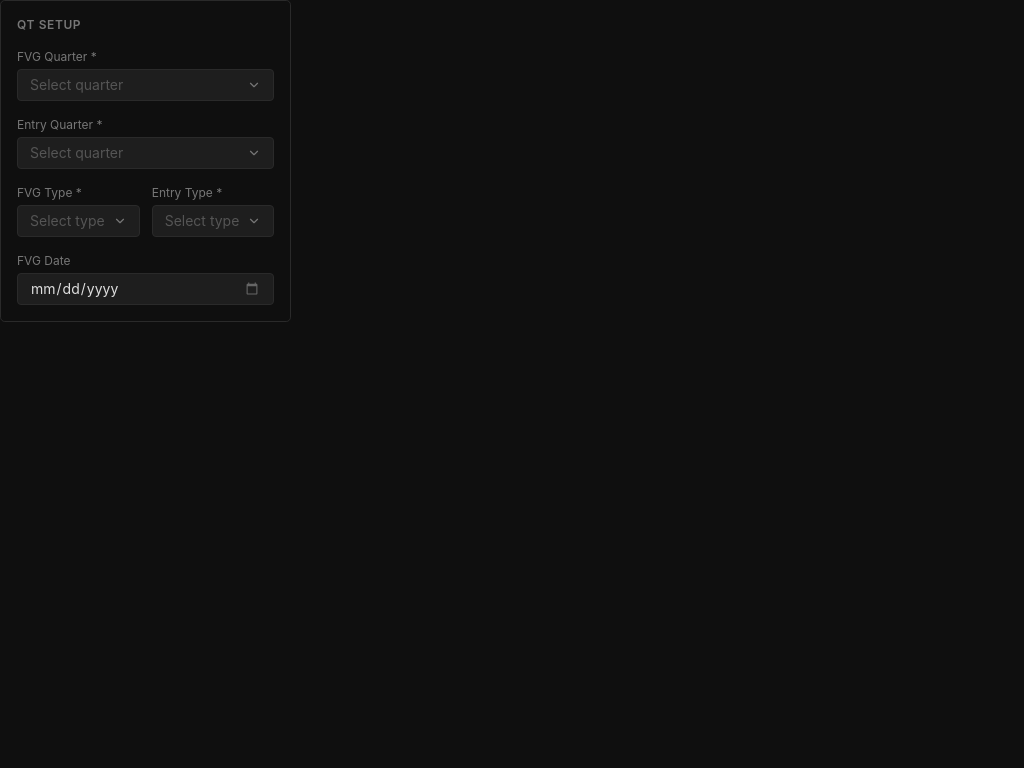
Test case: QtTradeFields — quarter options › renders Asia Q1 option in the FVG Quarter dropdown
The image size is (1024, 768).
Step 1. Click the dropdown labelled "Select quarter" below "FVG Quarter *" → (146, 85), box [17, 69, 274, 101]
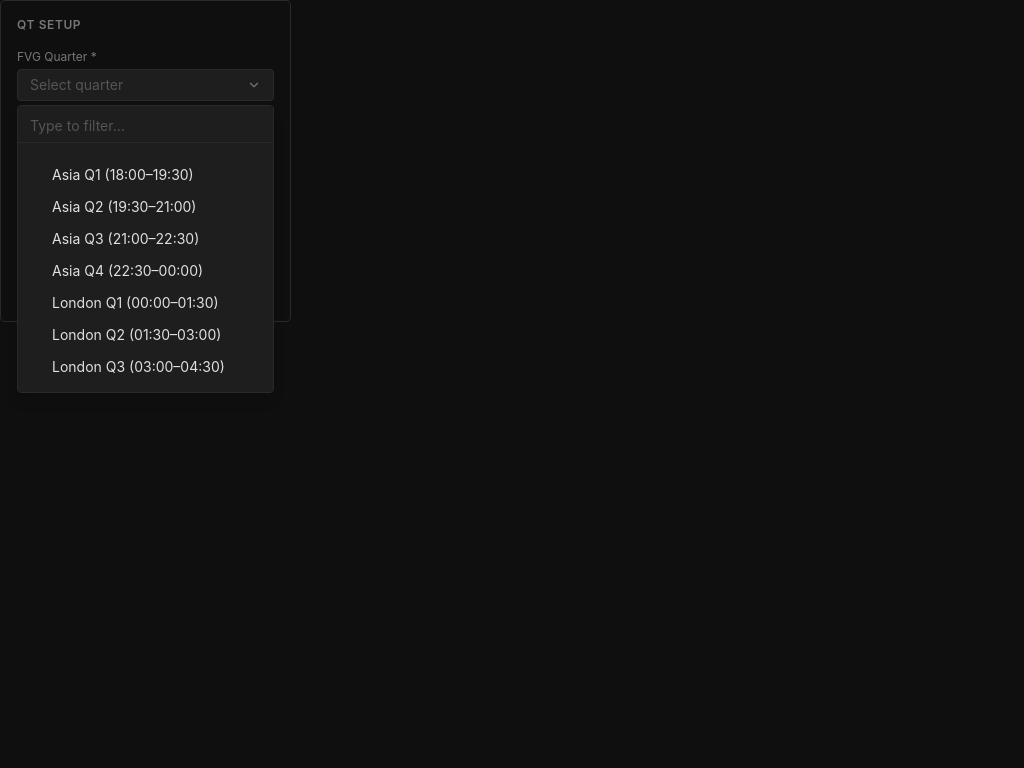
Check: the option "Asia Q1 (18:00–19:30)" is shown, box [52, 166, 194, 183]
